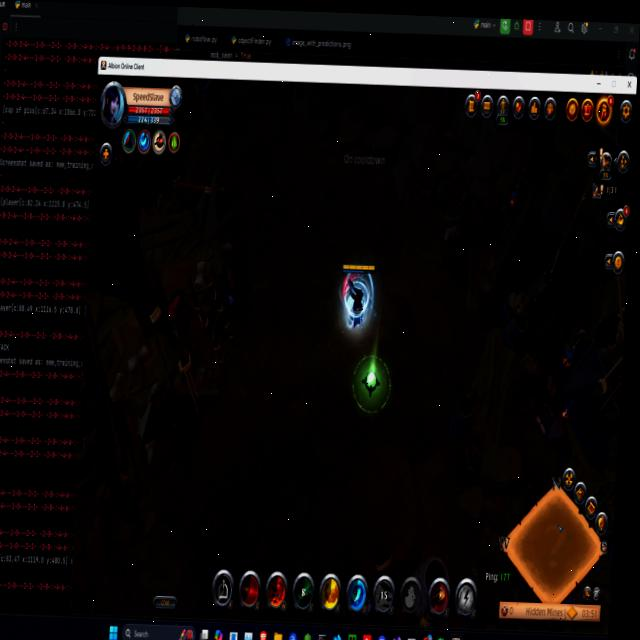red: (338, 255, 378, 337)
